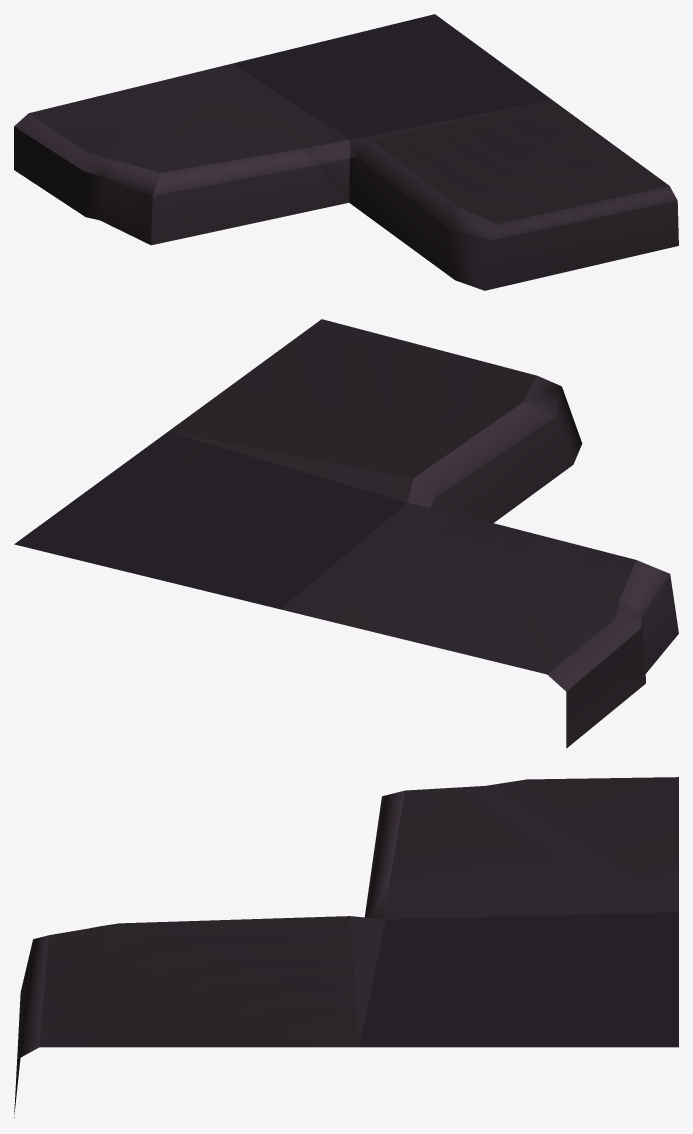
File: floor_pit_edge_corner_2.fbx
3 renders of one model, top to bottom at view 1: azimuth 30°, elevation 25°; view 2: azimuth 150°, elevation 25°; view 3: azimuth 270°, elevation 25°, orthographic. The views are drawn at different scales.
Visible parts, largest first — view 1: floor_pit_edge_corner_2; view 2: floor_pit_edge_corner_2; view 3: floor_pit_edge_corner_2.
Part boxes in pixels (left/top/right/bottom): floor_pit_edge_corner_2: left=14, top=14, right=678, bottom=290; floor_pit_edge_corner_2: left=14, top=319, right=678, bottom=748; floor_pit_edge_corner_2: left=14, top=777, right=678, bottom=1117.
Size of the model in its own units: 207 by 28.16 by 208.
